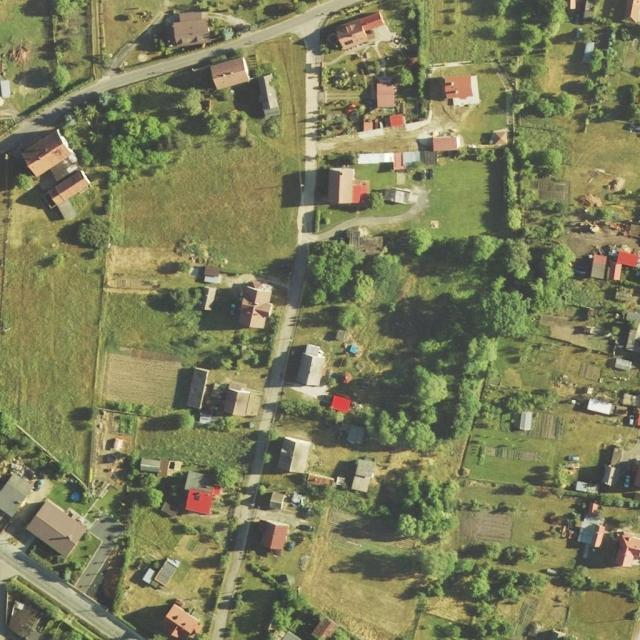building: (17, 128, 102, 226), (25, 499, 88, 559), (573, 500, 614, 553), (238, 280, 275, 330), (327, 167, 371, 206), (208, 55, 252, 91), (296, 343, 330, 389), (185, 480, 223, 518), (277, 436, 312, 476), (172, 11, 210, 47), (150, 554, 182, 593), (443, 74, 480, 107), (256, 73, 280, 119), (257, 519, 289, 551), (351, 457, 378, 494), (139, 457, 182, 478), (359, 11, 387, 34), (586, 397, 615, 417), (384, 187, 419, 203), (432, 135, 464, 152), (590, 254, 609, 281), (329, 393, 353, 414), (376, 82, 395, 108), (267, 489, 287, 512), (626, 319, 640, 351), (201, 286, 217, 311), (306, 472, 334, 486), (581, 40, 597, 64), (613, 356, 634, 374), (160, 501, 179, 519), (622, 408, 640, 427), (203, 265, 221, 283), (141, 567, 158, 586), (574, 481, 600, 493), (389, 113, 407, 129), (290, 492, 307, 508), (112, 437, 125, 452), (569, 0, 576, 9)
greenland: (1, 41, 302, 479), (513, 67, 638, 184), (412, 0, 570, 70), (234, 571, 314, 640), (207, 0, 311, 37)
